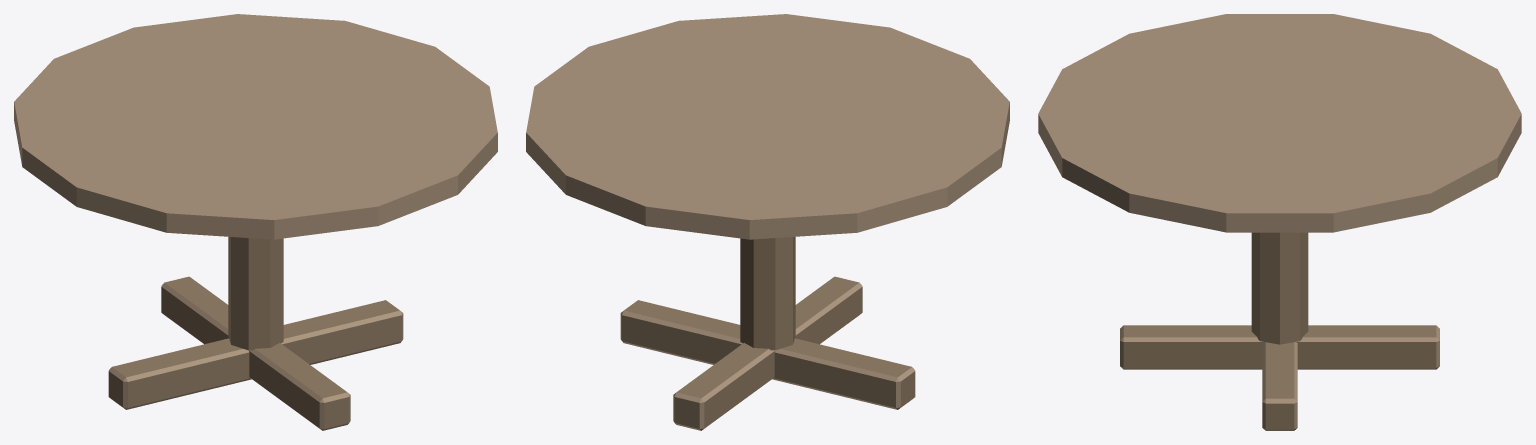
Rendered from table_2.glb.
3 views of the same model, side by side, from view 1: azimuth 30°, elevation 25°; view 2: azimuth 150°, elevation 25°; view 3: azimuth 270°, elevation 25° (orthographic).
Parts seen in each view (by area): view 1: Table_2; view 2: Table_2; view 3: Table_2.
Part boxes in pixels (bbox=[...]): Table_2: bbox=[14, 14, 497, 430]; Table_2: bbox=[526, 14, 1009, 430]; Table_2: bbox=[1038, 14, 1521, 430].
Bounding box in the file's own units: 1.33 × 0.78 × 1.36.
